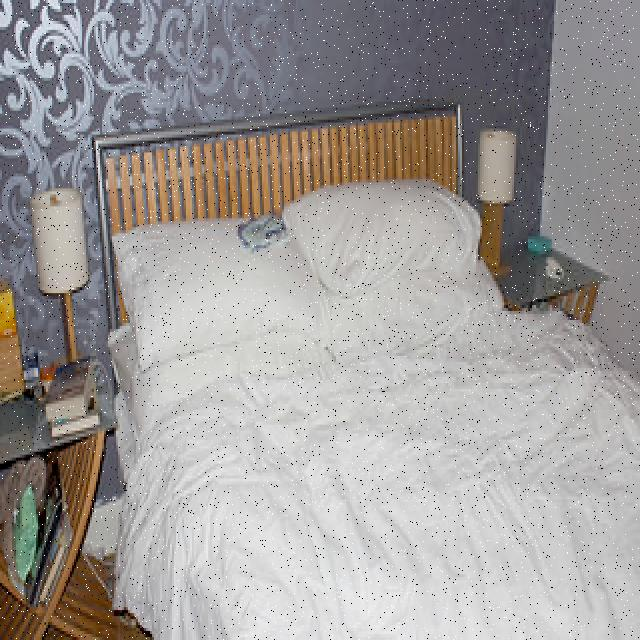bed: (91, 124, 640, 640)
